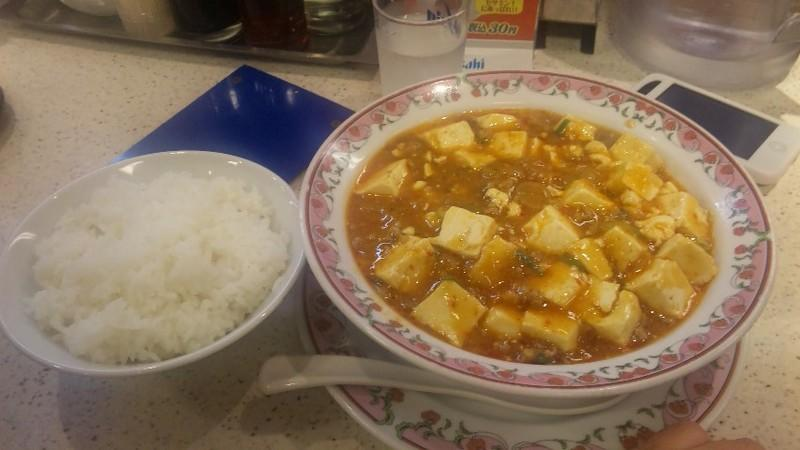rice: (25, 172, 301, 365)
